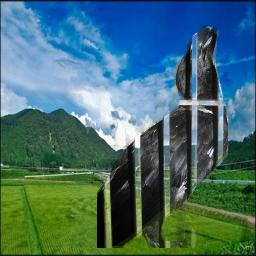Crow: (97, 26, 228, 248)
